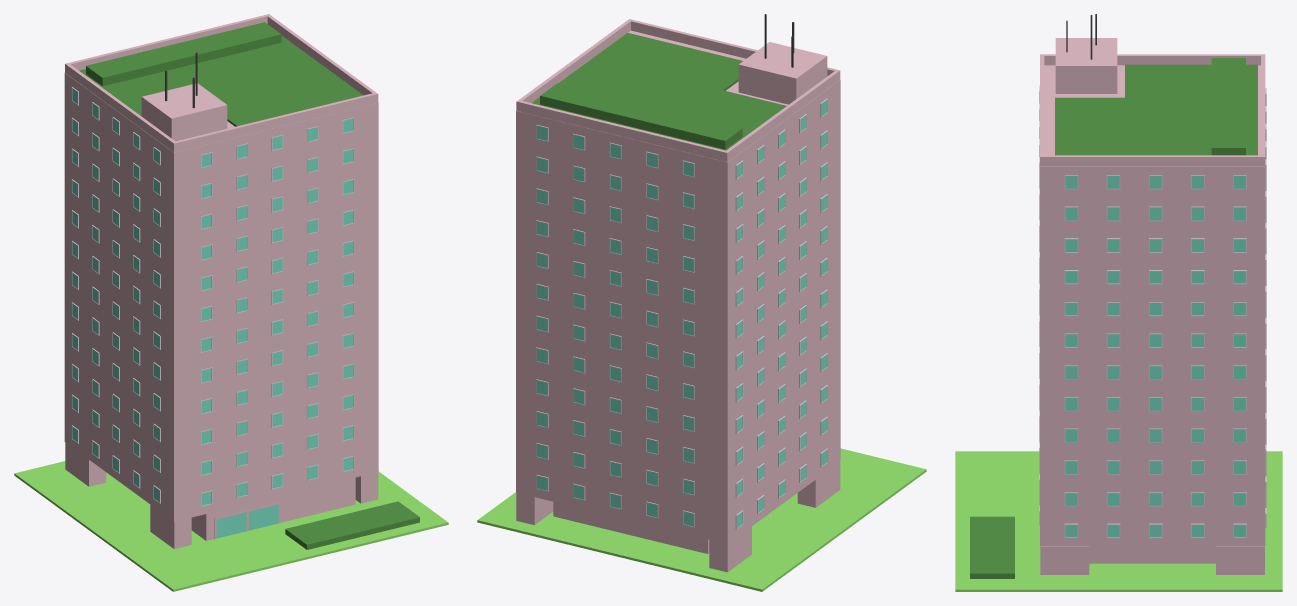
Rendered from building_12_etages.fbx.
3 renders of one model, left to right at view 1: azimuth 30°, elevation 25°; view 2: azimuth 150°, elevation 25°; view 3: azimuth 270°, elevation 25°, orthographic. The views are drawn at different scales.
Parts seen in each view (by area): view 1: etages.002, jardin.006, jardin_toit.004, niveau_0.002, building_top.002, jardin_toit.005, maison_toit.002, jardin.005; view 2: etages.002, jardin.006, jardin_toit.004, building_top.002, niveau_0.002, jardin_toit.005, maison_toit.002; view 3: etages.002, jardin.006, jardin_toit.004, niveau_0.002, building_top.002, maison_toit.002, jardin_toit.005, jardin.005.
Part boxes in pixels (x1=…): etages.002: x1=64, y1=73, x2=378, y2=521; jardin.006: x1=14, y1=461, x2=448, y2=591; jardin_toit.004: x1=79, y1=35, x2=363, y2=126; niveau_0.002: x1=65, y1=442, x2=378, y2=549; building_top.002: x1=65, y1=14, x2=378, y2=152; jardin_toit.005: x1=86, y1=22, x2=281, y2=86; maison_toit.002: x1=141, y1=83, x2=227, y2=141; jardin.005: x1=285, y1=501, x2=419, y2=549; etages.002: x1=516, y1=30, x2=840, y2=543; jardin.006: x1=477, y1=448, x2=926, y2=591; jardin_toit.004: x1=531, y1=32, x2=786, y2=150; building_top.002: x1=516, y1=19, x2=840, y2=162; niveau_0.002: x1=516, y1=462, x2=840, y2=572; jardin_toit.005: x1=540, y1=83, x2=742, y2=149; maison_toit.002: x1=738, y1=42, x2=827, y2=104; etages.002: x1=1039, y1=65, x2=1266, y2=546; jardin.006: x1=955, y1=451, x2=1282, y2=591; jardin_toit.004: x1=1055, y1=64, x2=1257, y2=155; niveau_0.002: x1=1040, y1=546, x2=1264, y2=574; building_top.002: x1=1040, y1=54, x2=1265, y2=165; maison_toit.002: x1=1055, y1=38, x2=1117, y2=93; jardin_toit.005: x1=1211, y1=58, x2=1245, y2=155; jardin.005: x1=970, y1=516, x2=1014, y2=578.
Size of the model in its own units: 2600 by 4238 by 2600.
